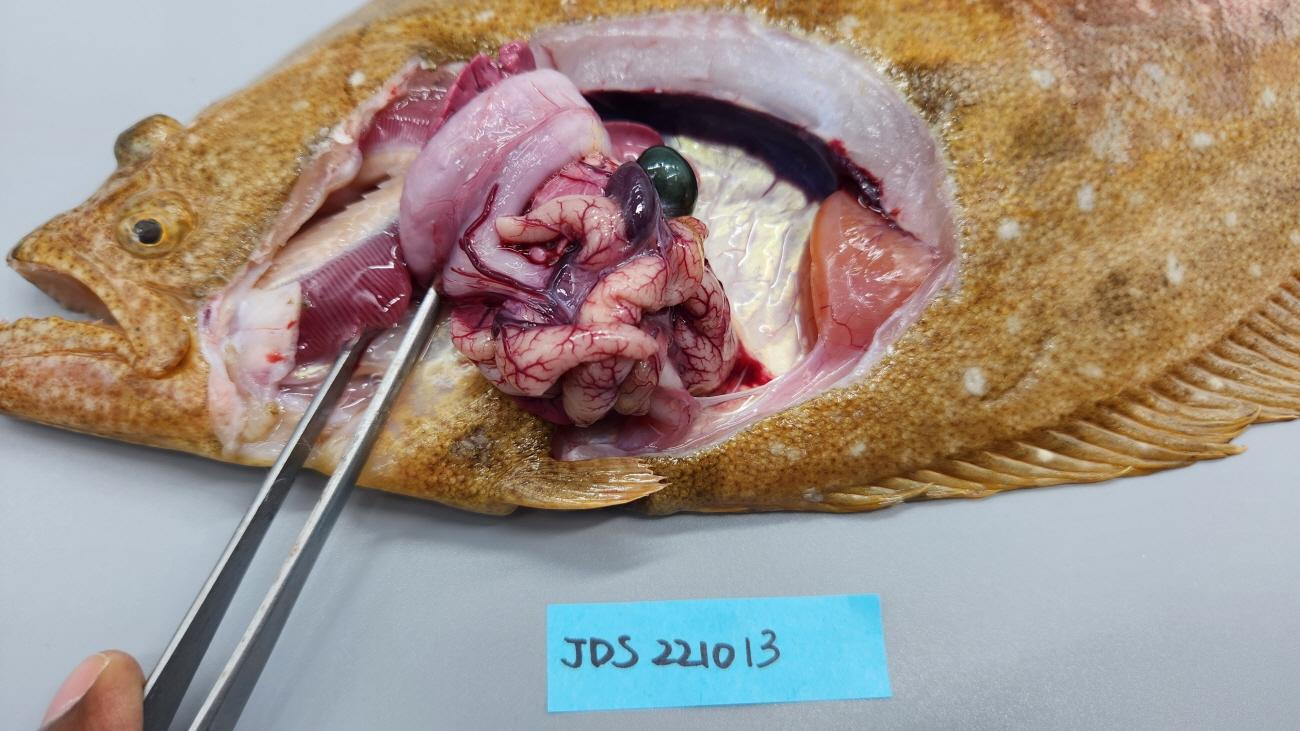POSPN: (604, 160, 660, 249)
